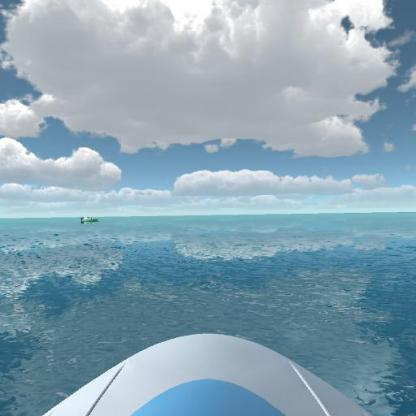usv0: (77, 212, 102, 227)
